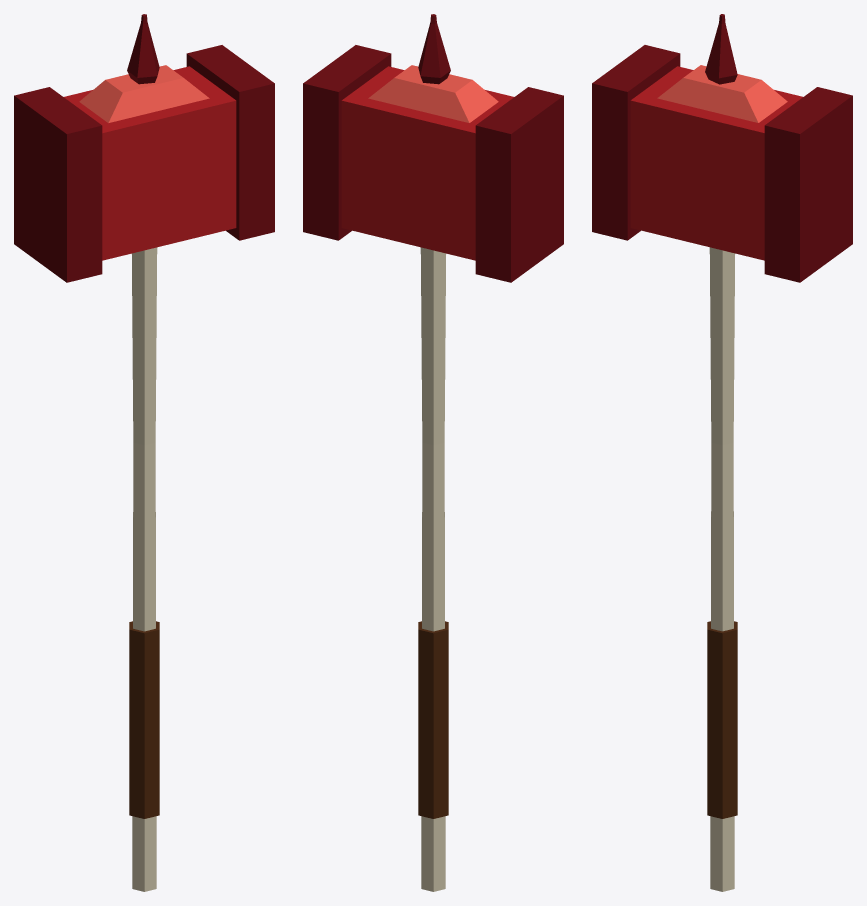
The model's file is wpn_melee_2h_8.glb.
The picture shows the model from 3 angles, left to right: view 1: azimuth 30°, elevation 25°; view 2: azimuth 150°, elevation 25°; view 3: azimuth 330°, elevation 25°; orthographic projection.
Parts seen in each view (by area): view 1: wpn_melee_2h_8; view 2: wpn_melee_2h_8; view 3: wpn_melee_2h_8.
Part boxes in pixels (<box>): wpn_melee_2h_8: <box>14,14,274,891</box>; wpn_melee_2h_8: <box>303,14,563,891</box>; wpn_melee_2h_8: <box>592,14,852,891</box>.
Size of the model in its own units: 0.41 by 1.64 by 0.18.
